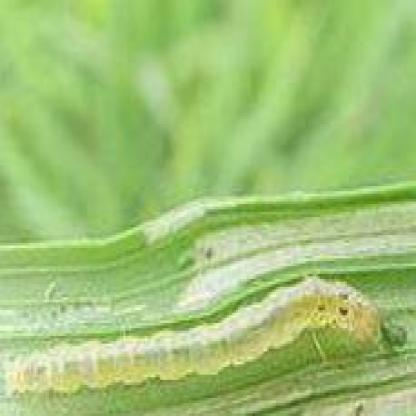leaf-folder: (18, 272, 411, 396)
